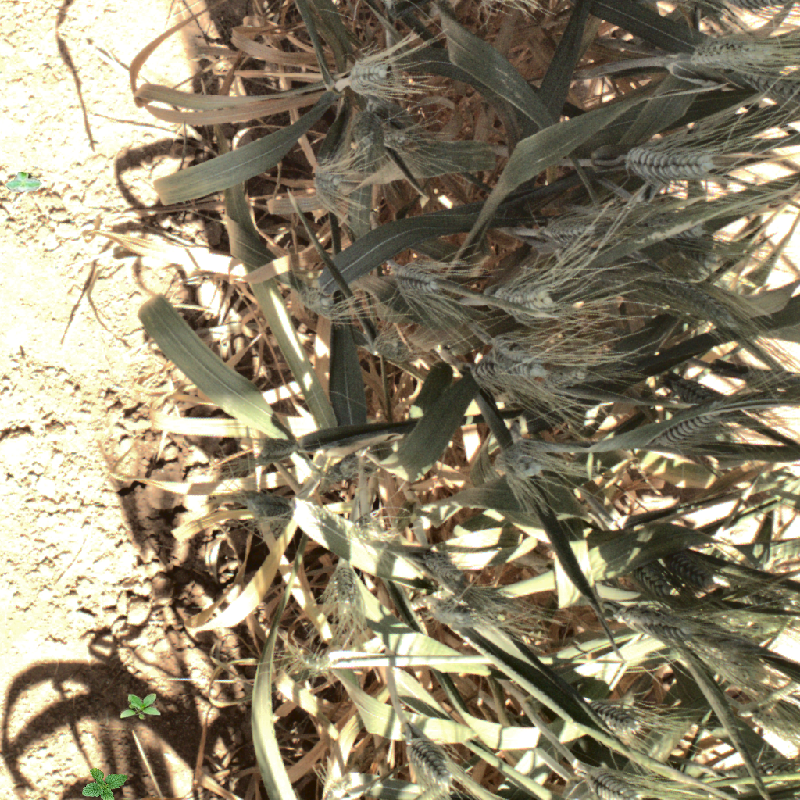spikelet: (655, 272, 739, 327), (479, 341, 565, 387), (622, 140, 716, 182), (695, 644, 766, 696), (495, 437, 565, 487), (688, 37, 779, 74), (613, 606, 703, 642), (585, 765, 671, 800), (657, 405, 724, 449), (625, 560, 686, 608), (464, 580, 537, 620), (491, 275, 559, 317), (406, 734, 455, 792), (532, 216, 610, 252), (580, 701, 661, 731), (308, 164, 365, 199), (390, 262, 443, 299), (428, 598, 488, 628), (329, 558, 359, 617), (422, 550, 468, 588), (347, 58, 390, 94), (246, 490, 294, 520)
weed: (77, 758, 130, 800), (120, 693, 161, 720), (6, 172, 42, 192)
